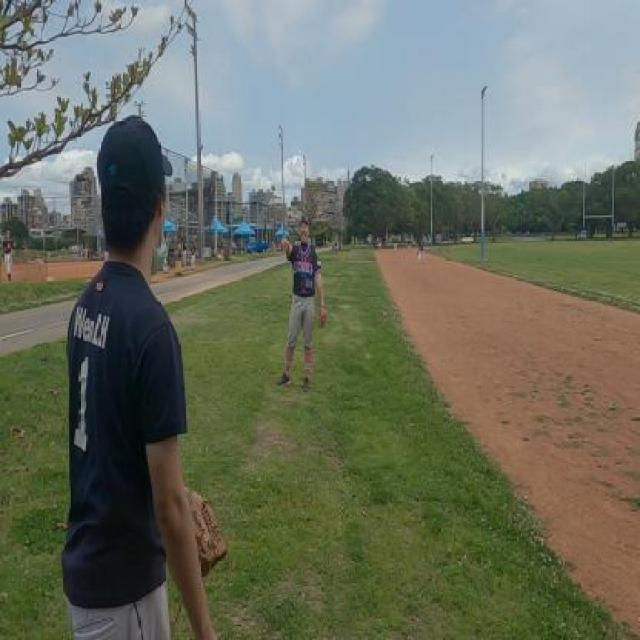baseball: (271, 182, 275, 190)
